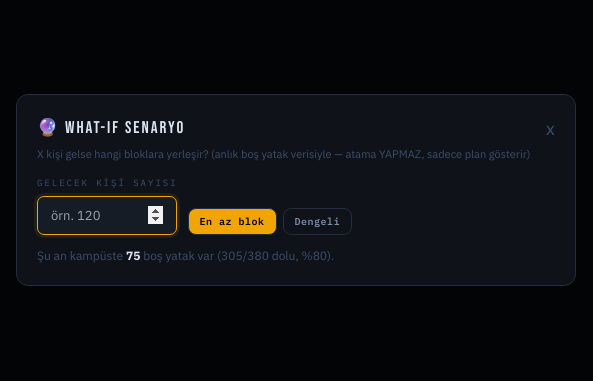
Test: ScenarioPanel smoke › boş yatak özetini gösterir, sayı girilince yerleşim planı çıkar
The width and height of the screenshot is (593, 381).
Check: the text "Şu an kampüste 75 boş yatak var (305/380 dolu, %80)." is shown, box 37,248 -> 334,263
Type "70" into the number field with placeholder "örn. 120".
click(107, 216); type("70")  # box 37,196 -> 177,235
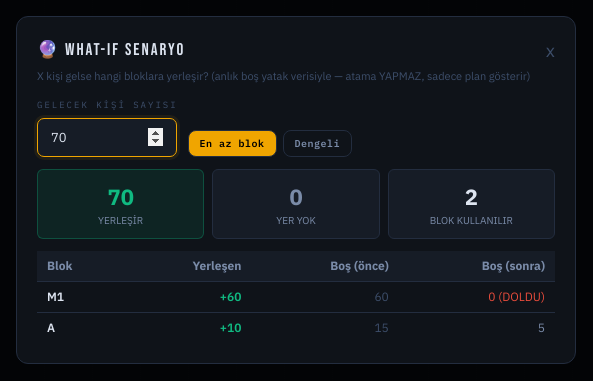
Check: the text "YERLEŞİR" is shown, box 98,214 -> 143,227
Check: the text "+60" is shown, box 122,282 -> 251,313
Check: the text "+10" is shown, box 122,313 -> 251,343
